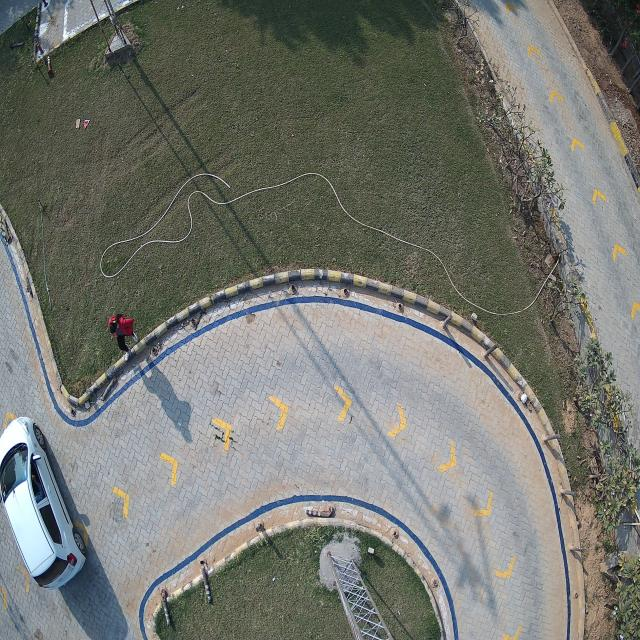car: (0, 416, 88, 589)
